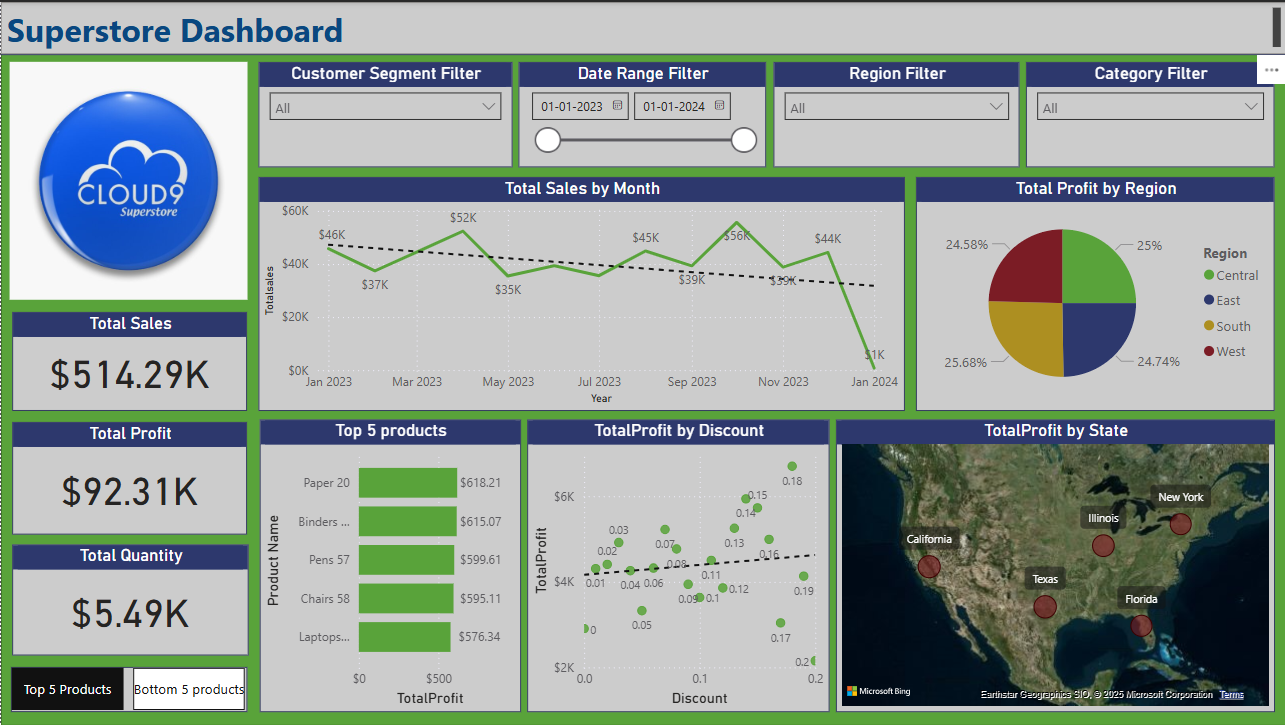

Layout of this report page (visuals, bound fields, positions):
{"tool":"powerbi","page":{"name":"Superstore Dashboard","canvas":[1280,720],"ordinal":0},"visuals":[{"type":"shape","box":[0,0,1279.8,720.2],"z":0},{"type":"card","title":"Total Sales","fields":{"Values":["Superstore.Totalsales"]},"box":[11.2,308.9,233.9,98.3],"z":1000},{"type":"card","title":"Total Profit","fields":{"Values":["Superstore.TotalProfit"]},"box":[11.6,417.8,233.9,112],"z":2000},{"type":"card","title":"Total Quantity","fields":{"Values":["Superstore.Totalquantity"]},"box":[10.8,540.4,235.1,110.7],"z":3000},{"type":"lineChart","title":"Total Sales by Month","fields":{"Category":["Superstore.Order Date.Variation.Date Hierarchy.Year","Superstore.Order Date.Variation.Date Hierarchy.Quarter","Superstore.Order Date.Variation.Date Hierarchy.Month","Superstore.Order Date.Variation.Date Hierarchy.Day"],"Y":["Superstore.Totalsales"]},"box":[256.3,174.5,643.1,232.6],"z":4000},{"type":"map","fields":{"Size":["Superstore.TotalProfit"],"Category":["Superstore.State"]},"box":[831,415.5,436.6,291.1],"z":5000},{"type":"bookmarkNavigator","box":[10,661.8,235.1,44.8],"z":7000},{"type":"scatterChart","fields":{"X":["Superstore.Discount"],"Y":["Superstore.TotalProfit"]},"box":[523.1,415.5,301,291.1],"z":8000},{"type":"slicer","title":"Date Range Filter","fields":{"Values":["Superstore.Order Date"]},"box":[515.4,59.7,246.3,104.5],"z":9000},{"type":"slicer","title":"Region Filter","fields":{"Values":["Superstore.Region"]},"box":[768.4,59.7,245.1,104.5],"z":10000},{"type":"slicer","title":"Customer Segment Filter","fields":{"Values":["Superstore.Customer Segment"]},"box":[256.3,59.7,252.5,104.5],"z":11000},{"type":"slicer","title":"Category Filter","fields":{"Values":["Superstore.Sub-Category"]},"box":[1020,59.7,247.5,104.5],"z":12000},{"type":"clusteredBarChart","title":"Top 5 products","fields":{"Category":["Superstore.Product Name"],"Y":["Superstore.TotalProfit"]},"box":[257.5,415.5,260,291.1],"z":13000},{"type":"pieChart","title":"Total Profit by Region","fields":{"Category":["Superstore.Region"],"Y":["Superstore.TotalProfit"]},"box":[910.6,174.5,357,232.6],"z":14000},{"type":"textbox","box":[0,0,1279.8,52.8],"z":15000},{"type":"image","box":[3.7,54.7,246.3,246.3],"z":16000}]}

Visuals, with their boxes in screenshot pixels (x1, y1, x2, y2), scaled from the page's 1280x720 canvas onto the 1285x725 screenshot:
shape: (x1=0, y1=0, x2=1284, y2=724)
"Total Sales" card: (x1=11, y1=311, x2=246, y2=410)
"Total Profit" card: (x1=12, y1=421, x2=246, y2=533)
"Total Quantity" card: (x1=11, y1=544, x2=247, y2=656)
"Total Sales by Month" lineChart: (x1=257, y1=176, x2=903, y2=410)
map - Superstore.TotalProfit x Superstore.State: (x1=834, y1=418, x2=1273, y2=712)
bookmarkNavigator: (x1=10, y1=666, x2=246, y2=712)
scatterChart - Superstore.Discount x Superstore.TotalProfit: (x1=525, y1=418, x2=827, y2=712)
"Date Range Filter" slicer: (x1=517, y1=60, x2=765, y2=165)
"Region Filter" slicer: (x1=771, y1=60, x2=1017, y2=165)
"Customer Segment Filter" slicer: (x1=257, y1=60, x2=511, y2=165)
"Category Filter" slicer: (x1=1024, y1=60, x2=1272, y2=165)
"Top 5 products" clusteredBarChart: (x1=259, y1=418, x2=520, y2=712)
"Total Profit by Region" pieChart: (x1=914, y1=176, x2=1273, y2=410)
textbox: (x1=0, y1=0, x2=1284, y2=53)
image: (x1=4, y1=55, x2=251, y2=303)
